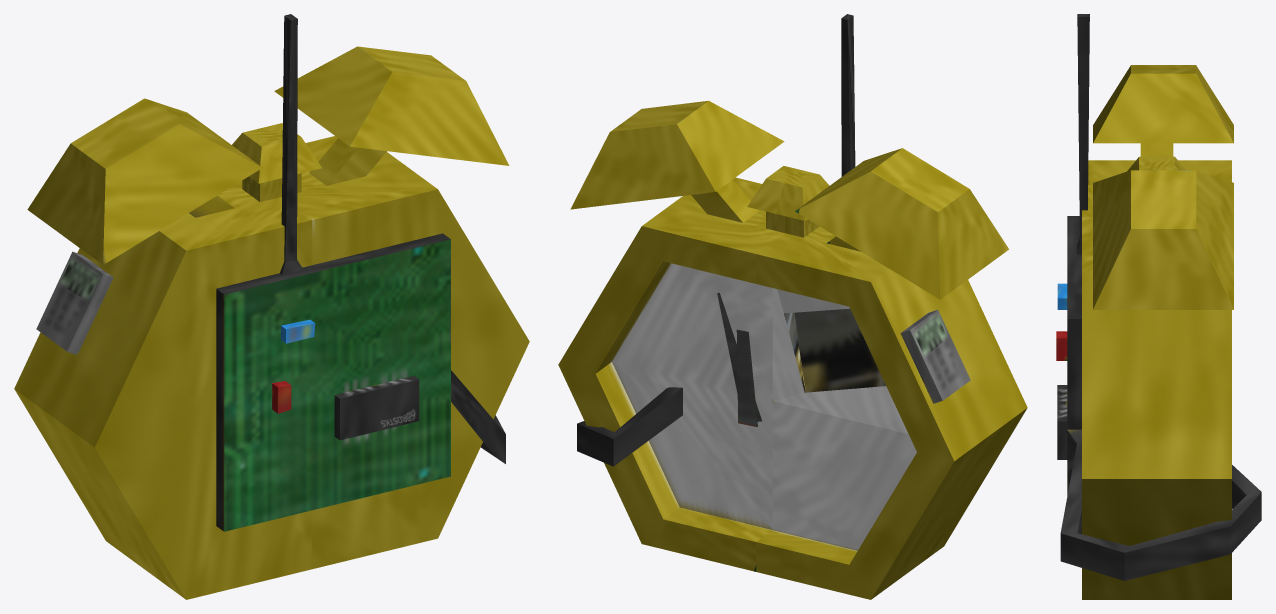
Rendered from timer X 2 fixed.glb.
The picture shows the model from 3 angles, left to right: view 1: azimuth 30°, elevation 25°; view 2: azimuth 150°, elevation 25°; view 3: azimuth 270°, elevation 25°; orthographic projection. The views are drawn at different scales.
Visible parts, largest first — view 1: clock; view 2: clock; view 3: clock.
Boxes of the visible parts, x1,y1,x2,y2 form: clock: [14, 14, 529, 599]; clock: [558, 14, 1027, 599]; clock: [1056, 14, 1261, 599].
Size of the model in its own units: 2.61 by 3.19 by 1.15.
Materials: 1 (1 with a texture image).
